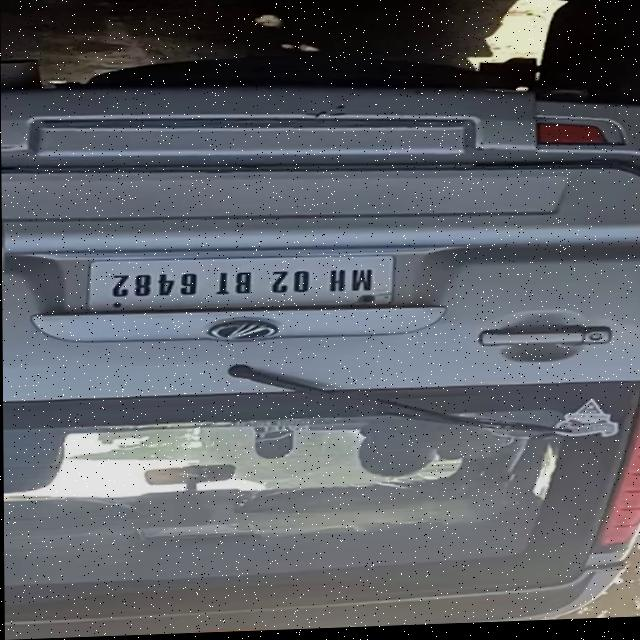plate: (75, 250, 399, 323)
